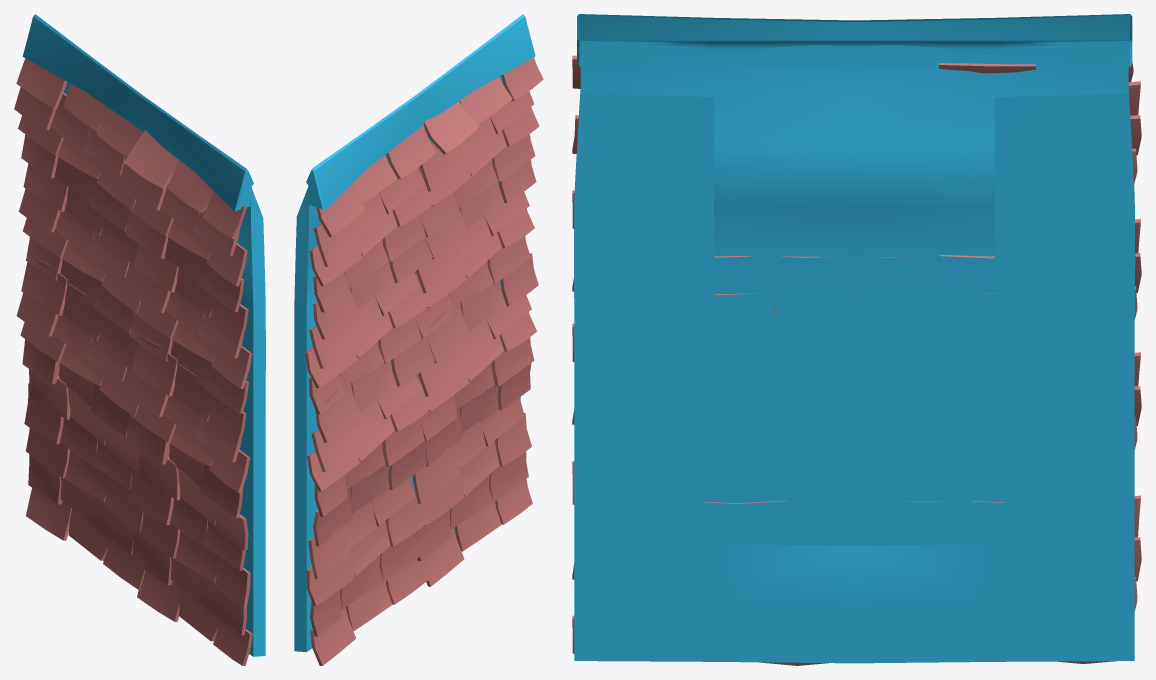
The model's file is Roof_01_half_flat.fbx.
3 renders of one model, left to right at view 1: azimuth 30°, elevation 25°; view 2: azimuth 150°, elevation 25°; view 3: azimuth 270°, elevation 25°, orthographic. The views are drawn at different scales.
Visible parts, largest first — view 1: Roof_01_half_flaten_LOD0; view 2: Roof_01_half_flaten_LOD0; view 3: Roof_01_half_flaten_LOD0.
Part boxes in pixels (x1,y1,x2,y2): Roof_01_half_flaten_LOD0: (14, 14, 265, 665); Roof_01_half_flaten_LOD0: (294, 14, 543, 665); Roof_01_half_flaten_LOD0: (572, 14, 1141, 665).
Size of what is drawn, in the model's own units: 81.33 by 986 by 778.
